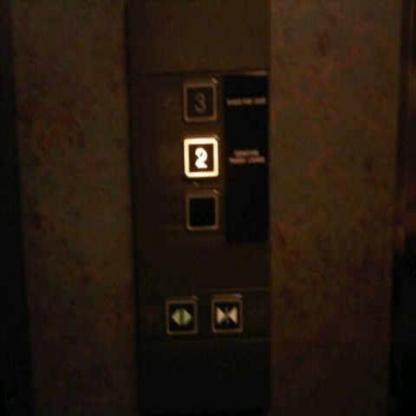2: (181, 132, 218, 178)
3: (181, 76, 217, 122)
close: (208, 292, 242, 334)
empty: (183, 188, 219, 233)
open: (162, 295, 198, 338)
